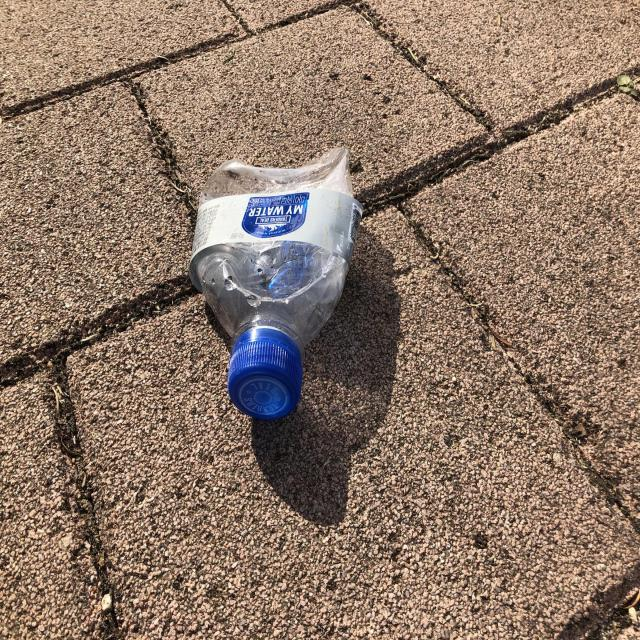plastic: (189, 148, 363, 420)
